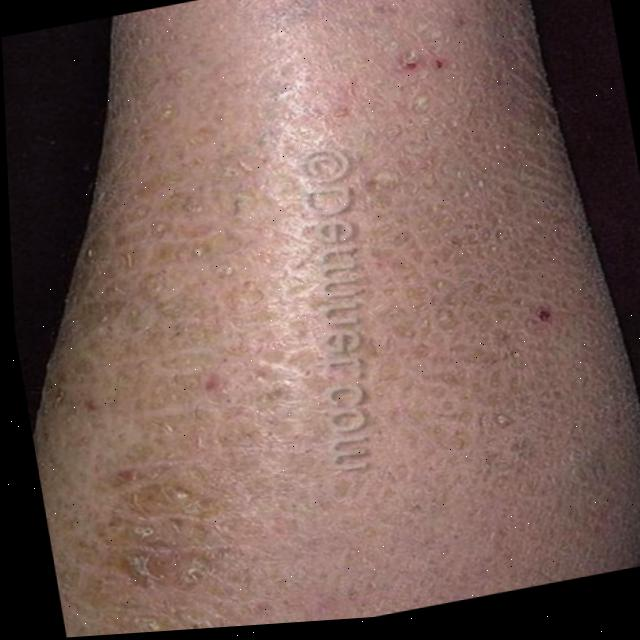Eczema: (7, 21, 576, 597)
